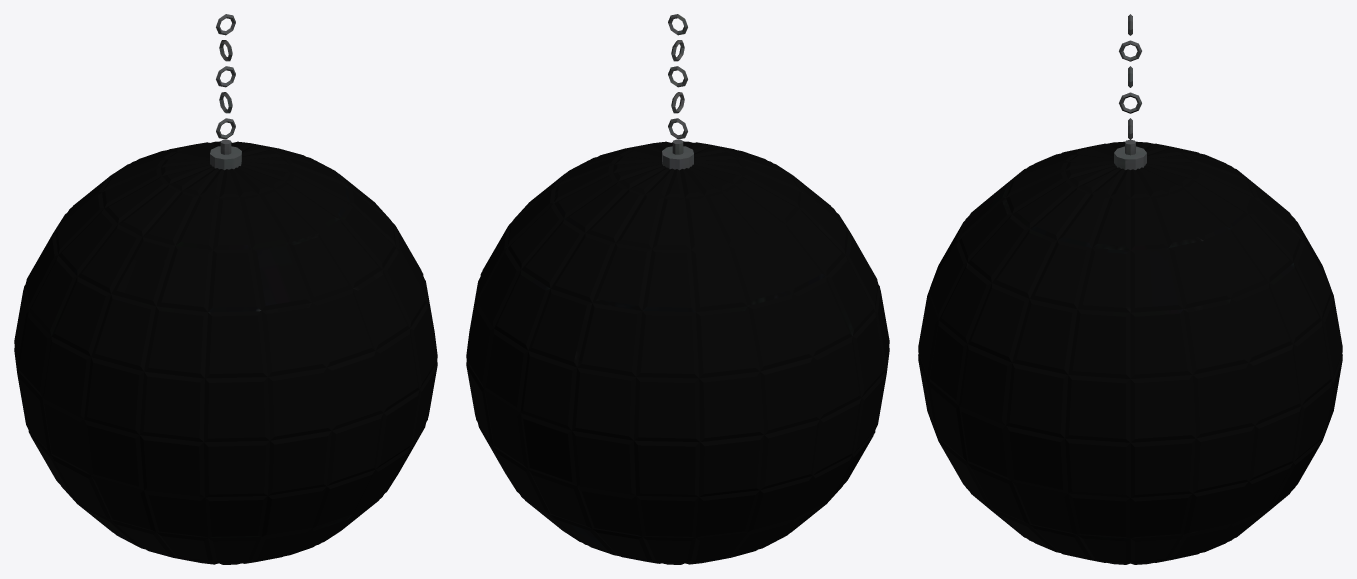
The model's file is mirror_ball.glb.
3 views of the same model, side by side, from view 1: azimuth 30°, elevation 25°; view 2: azimuth 150°, elevation 25°; view 3: azimuth 270°, elevation 25° (orthographic).
Visible parts, largest first — view 1: mirror_ball; view 2: mirror_ball; view 3: mirror_ball.
Part boxes in pixels (bbox=[...]): mirror_ball: bbox=[14, 14, 437, 564]; mirror_ball: bbox=[466, 14, 889, 564]; mirror_ball: bbox=[918, 14, 1342, 564].
Bounding box in the file's own units: 0.9022 × 1.24 × 0.9022.
1 material, 1 textured.
